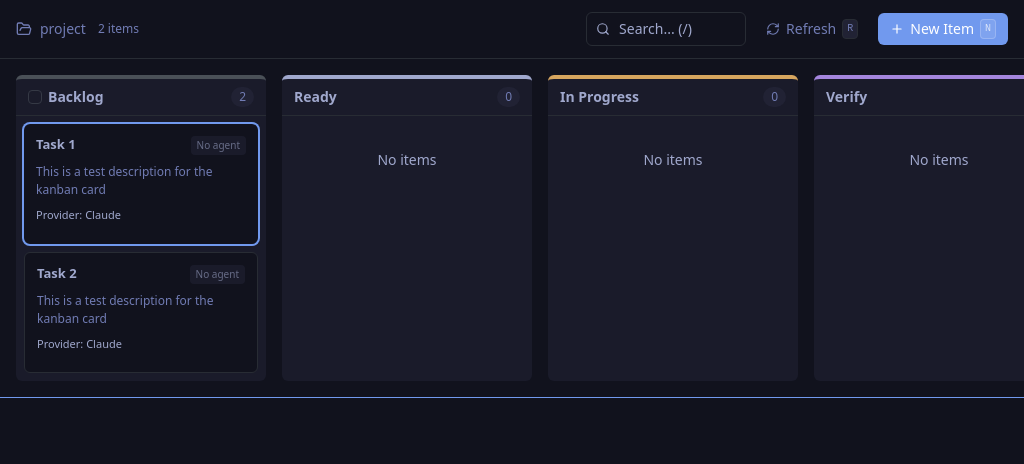
KanbanView › should display <kbd>Del</kbd> badge on the bulk delete button when items are selected
Ctrl+click to select an item
Click the button with test id "kanban-card" at (141,184), box [24,124,258,244]
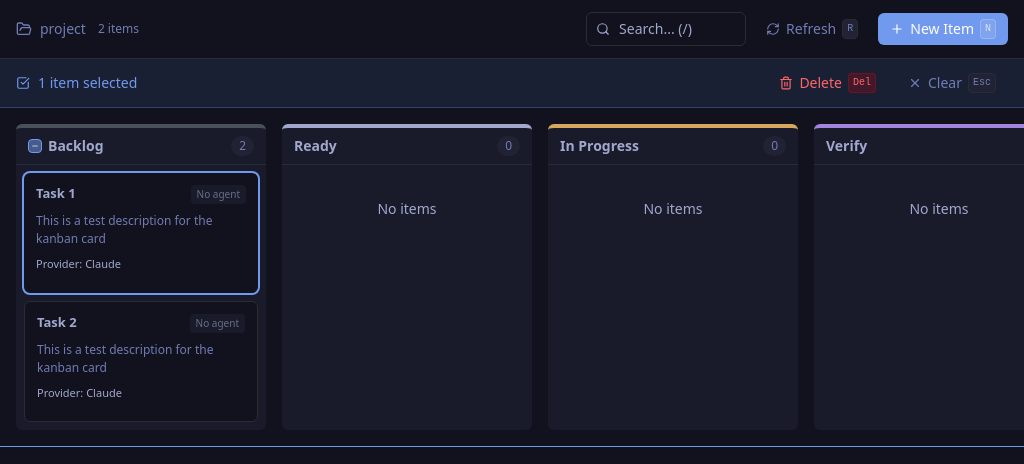
Expected: the element with test id "bulk-action-bar" is shown, [0,59,1023,108]
Expected: the text "Del" is shown, [848,73,876,93]
